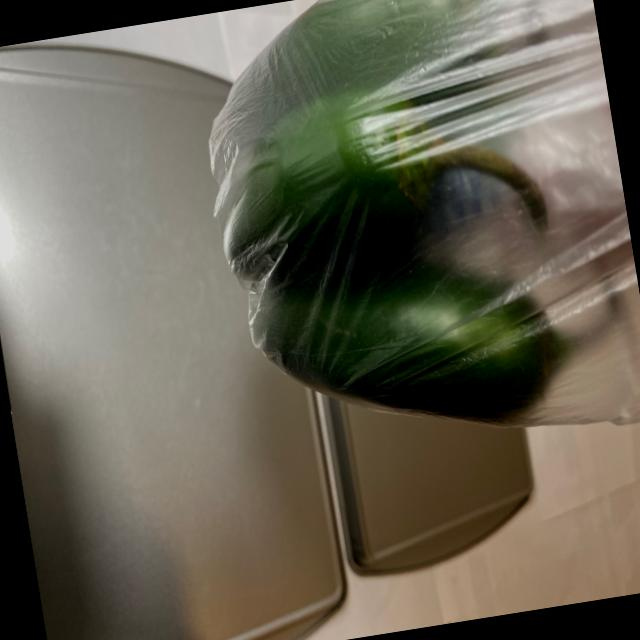chilli: (184, 0, 640, 462)
